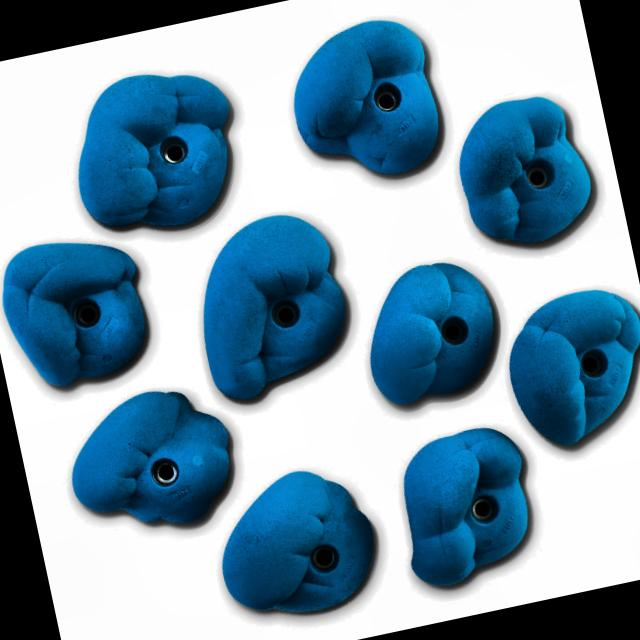Hold: (62, 52, 254, 253), (184, 210, 359, 404), (279, 7, 456, 194), (205, 467, 383, 633), (0, 225, 160, 401), (60, 384, 235, 544), (386, 418, 544, 595), (446, 86, 607, 255), (348, 250, 508, 416), (495, 278, 640, 453)
